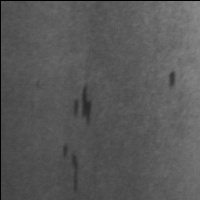inclusion: (60, 140, 83, 195), (71, 82, 95, 128), (166, 67, 179, 94)
